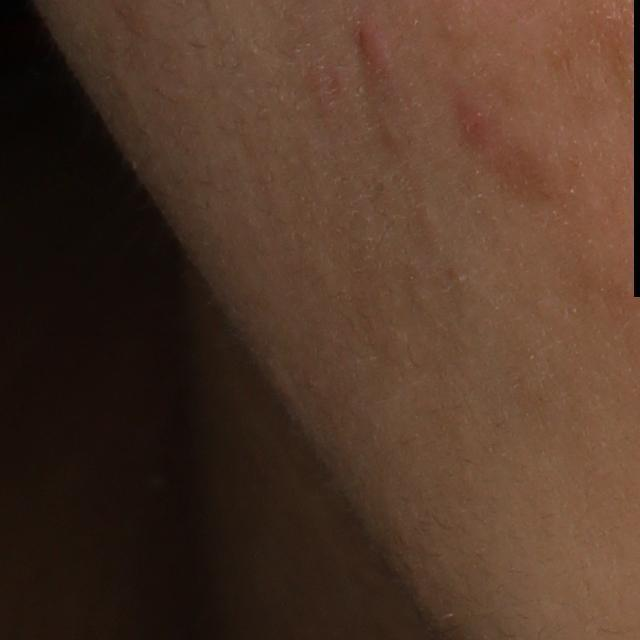papule: (345, 6, 391, 69), (449, 94, 494, 144)
